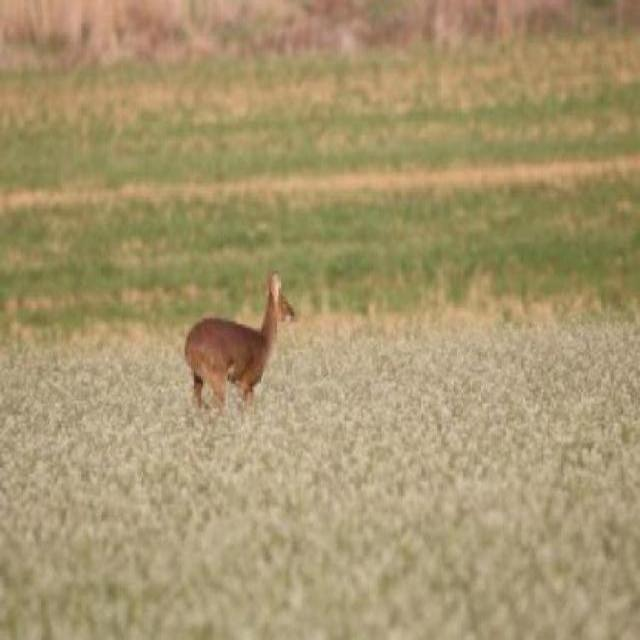deer: (182, 270, 298, 427)
